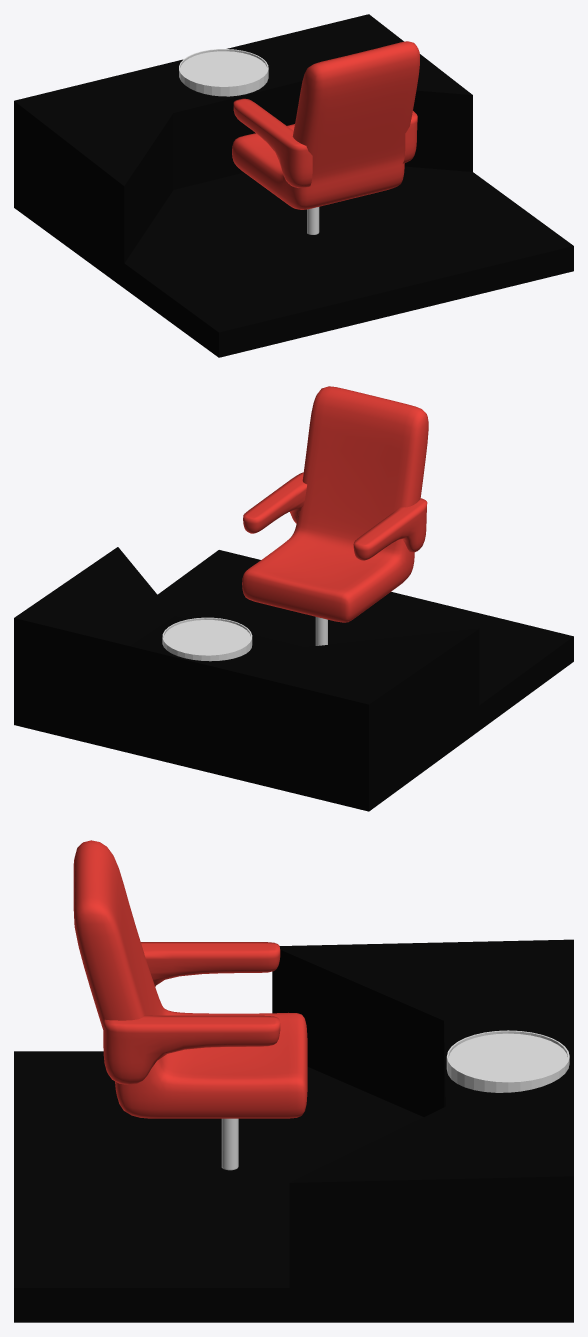
Rendered from pilot_seat.glb.
3 views of the same model, one above another, from view 1: azimuth 30°, elevation 25°; view 2: azimuth 150°, elevation 25°; view 3: azimuth 270°, elevation 25° (orthographic). The views are drawn at different scales.
Parts seen in each view (by area): view 1: Cube.053, Cube.055, Circle, Cube.056, Cube.057; view 2: Cube.053, Cube.055, Circle, Cube.056, Cube.057; view 3: Cube.053, Cube.055, Cube.057, Circle, Cube.056, Cylinder.006.
Boxes of the visible parts, x1,y1,x2,y2 form: Cube.053: (14, 14, 573, 357); Cube.055: (232, 41, 419, 209); Circle: (179, 49, 268, 96); Cube.056: (233, 98, 312, 187); Cube.057: (402, 111, 417, 163); Cube.053: (14, 547, 573, 811); Cube.055: (242, 386, 428, 622); Circle: (162, 617, 252, 661); Cube.056: (353, 498, 427, 560); Cube.057: (243, 472, 306, 533); Cube.053: (14, 939, 573, 1322); Cube.055: (73, 840, 307, 1118); Cube.057: (103, 1015, 280, 1084); Circle: (446, 1030, 569, 1092); Cube.056: (141, 942, 280, 986); Cylinder.006: (221, 1118, 238, 1170).
Size of the model in its own units: 1.94 by 1.27 by 1.94.
Materials: 3 (1 with a texture image).
